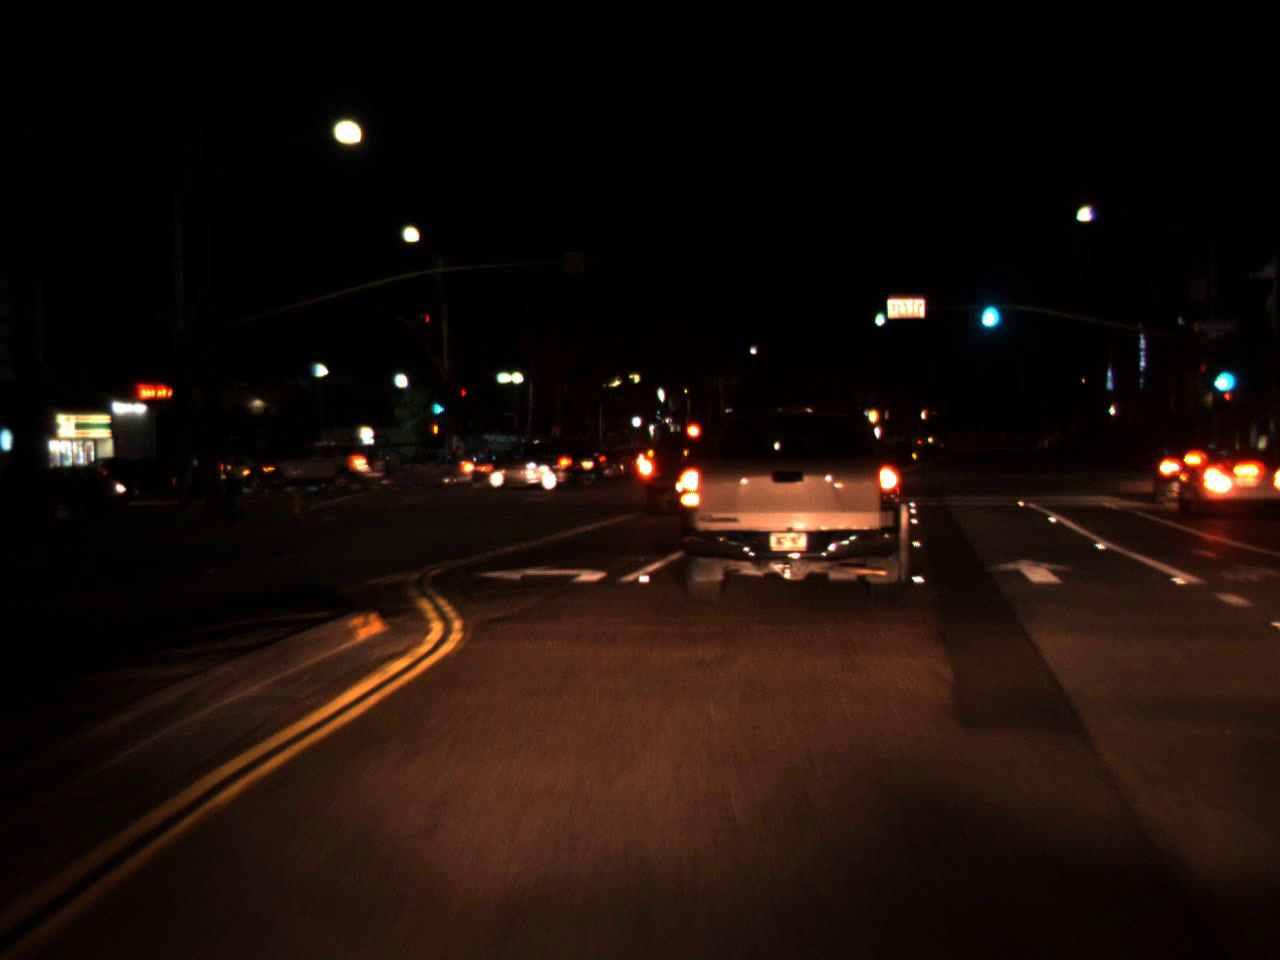go: (974, 281, 1002, 335), (1206, 352, 1236, 397), (425, 385, 447, 421), (868, 293, 887, 332)
